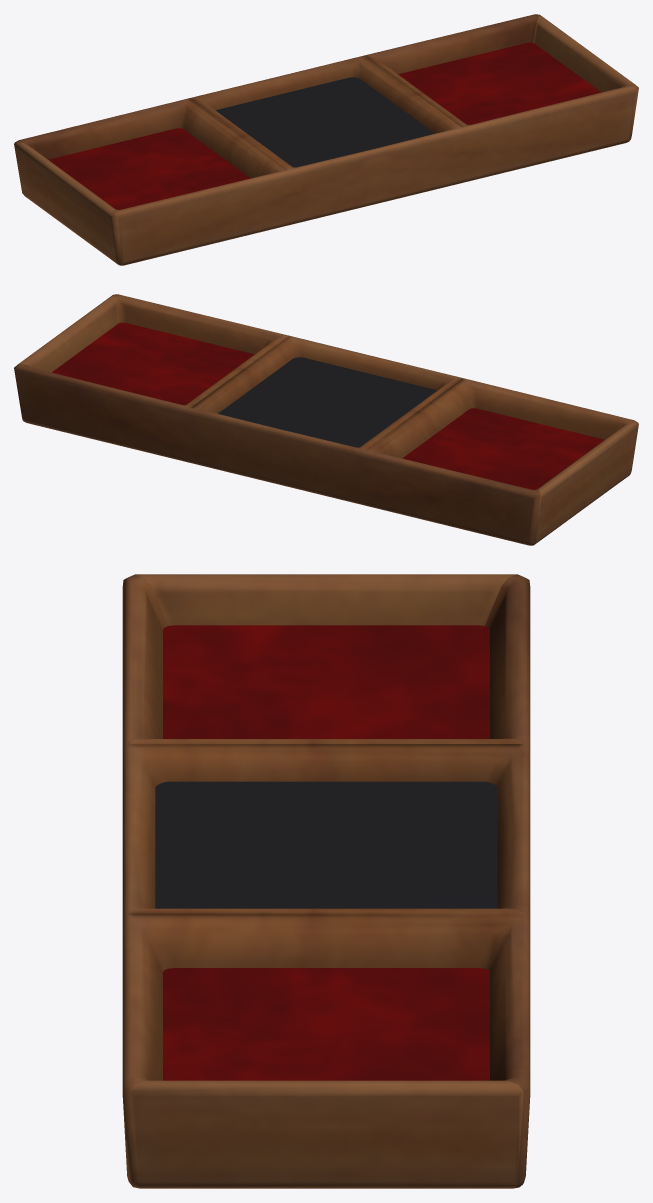
File: GardenTableWear01_5.FBX
The picture shows the model from 3 angles, top to bottom: view 1: azimuth 30°, elevation 25°; view 2: azimuth 150°, elevation 25°; view 3: azimuth 270°, elevation 25°; orthographic projection. The views are drawn at different scales.
Visible parts, largest first — view 1: GardenTableWear01_5; view 2: GardenTableWear01_5; view 3: GardenTableWear01_5.
Boxes of the visible parts, bbox=[...] form: GardenTableWear01_5: bbox=[14, 14, 638, 265]; GardenTableWear01_5: bbox=[14, 294, 638, 545]; GardenTableWear01_5: bbox=[122, 574, 530, 1188].
Size of what is drawn, in the model's own units: 0.2676 by 0.0274 by 0.0898.
